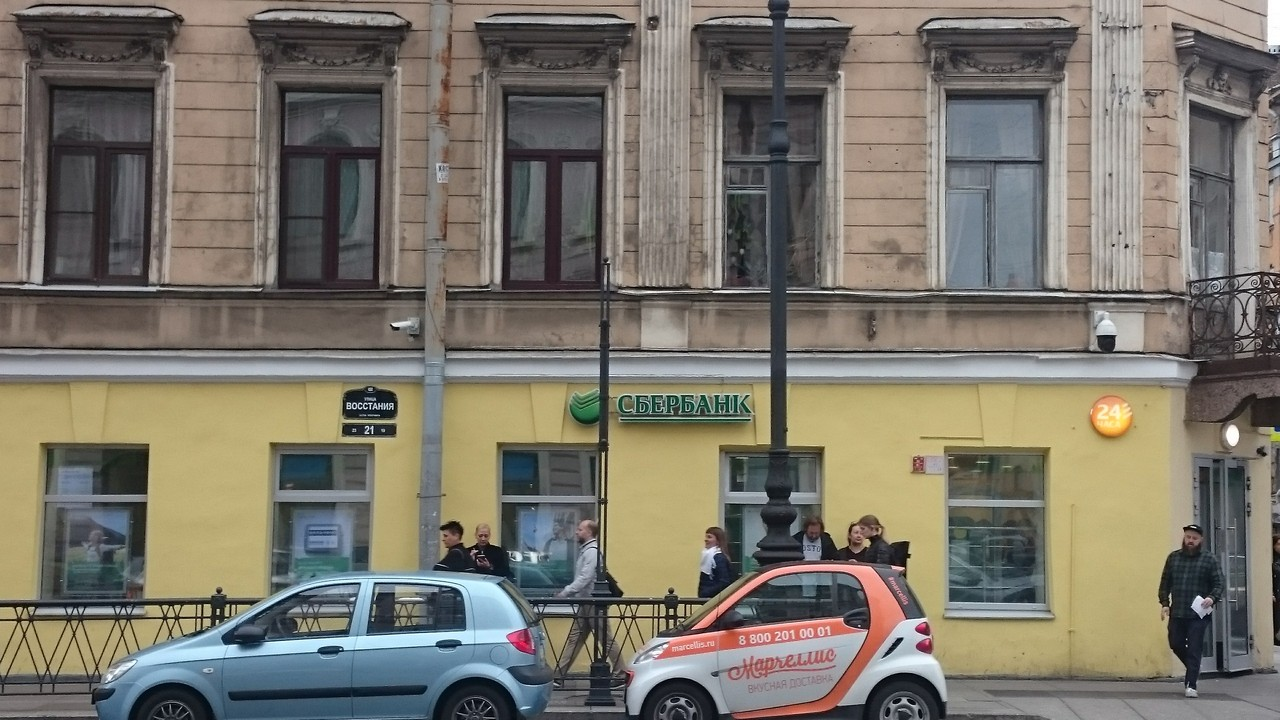signboard: (567, 384, 754, 427), (1088, 395, 1136, 439)
window: (942, 94, 1051, 292), (52, 86, 154, 285), (505, 91, 608, 287), (276, 91, 380, 285), (721, 96, 824, 289), (43, 448, 150, 606), (952, 452, 1048, 613)
